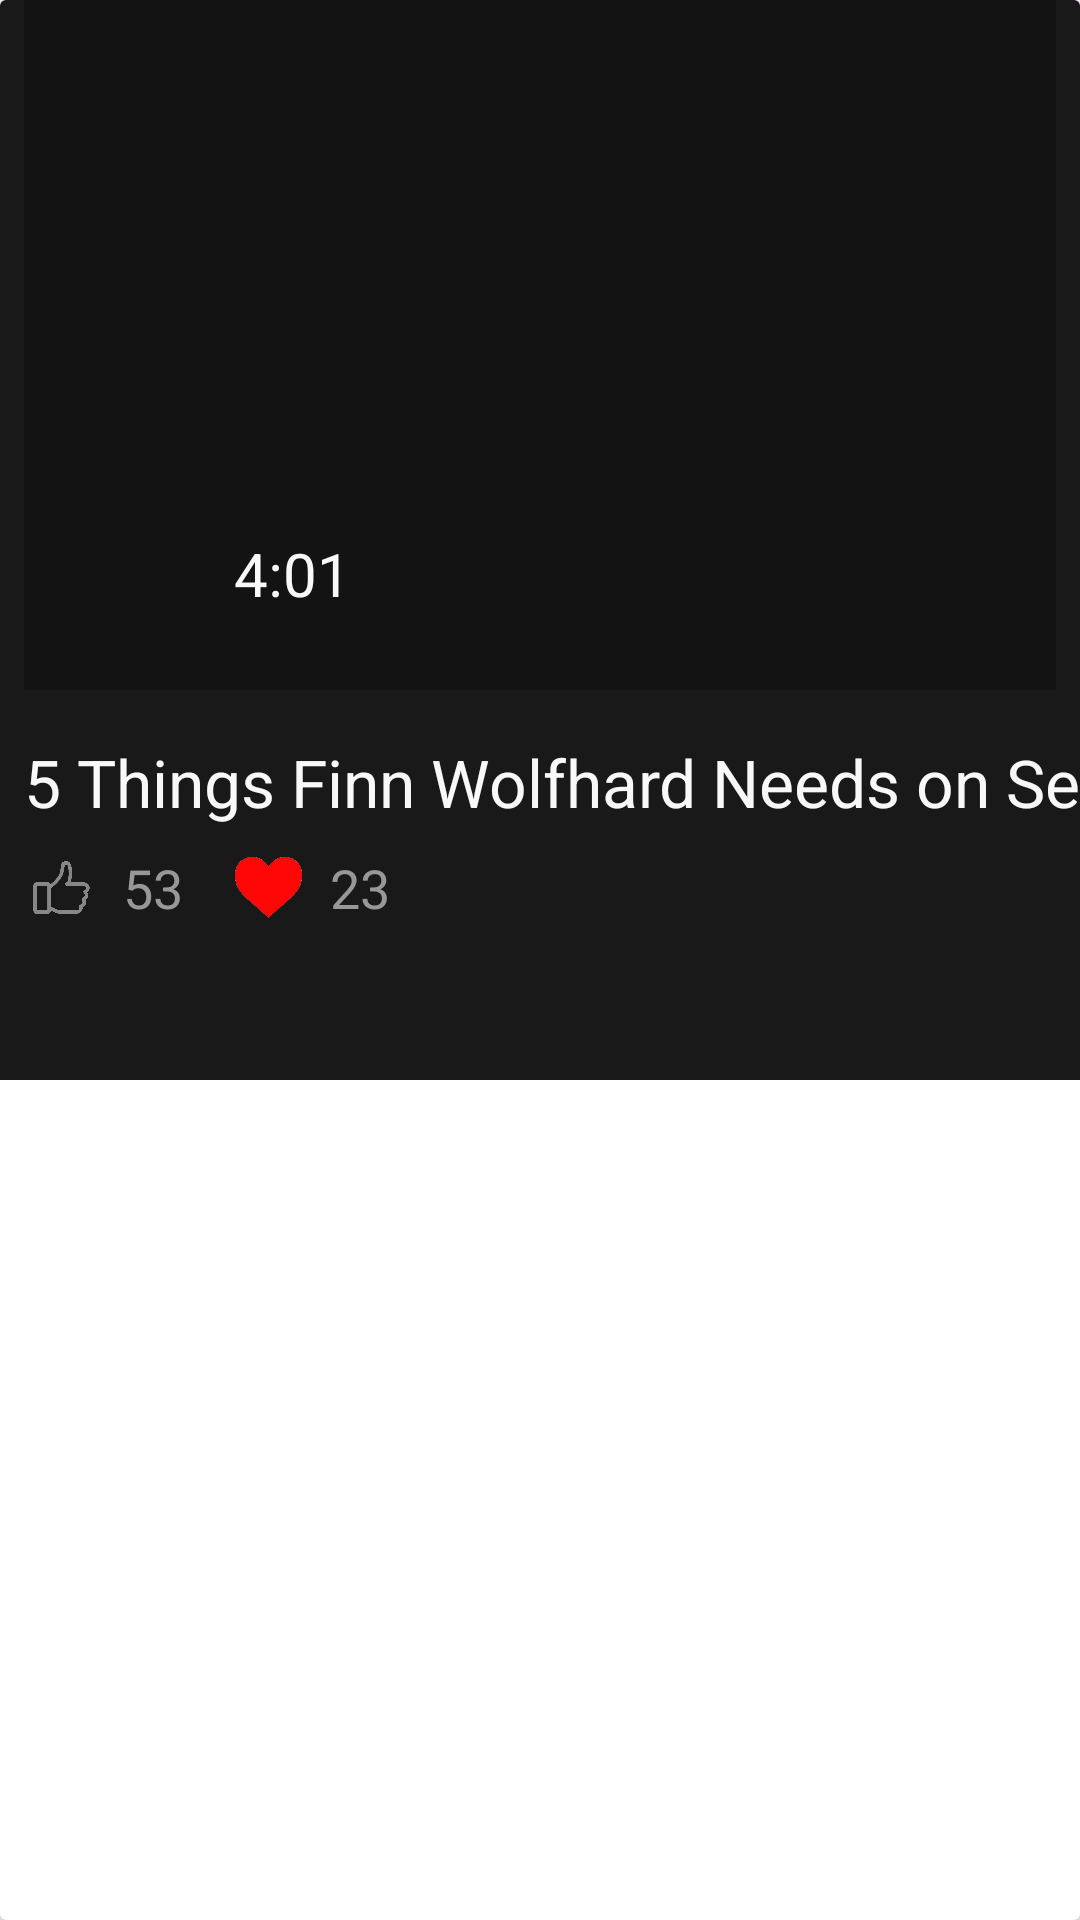

Icons on this 1080px x 1920px Android screen, each with its box as (x1, y1, x2, y2):
loveicon: (235, 857, 302, 918)
